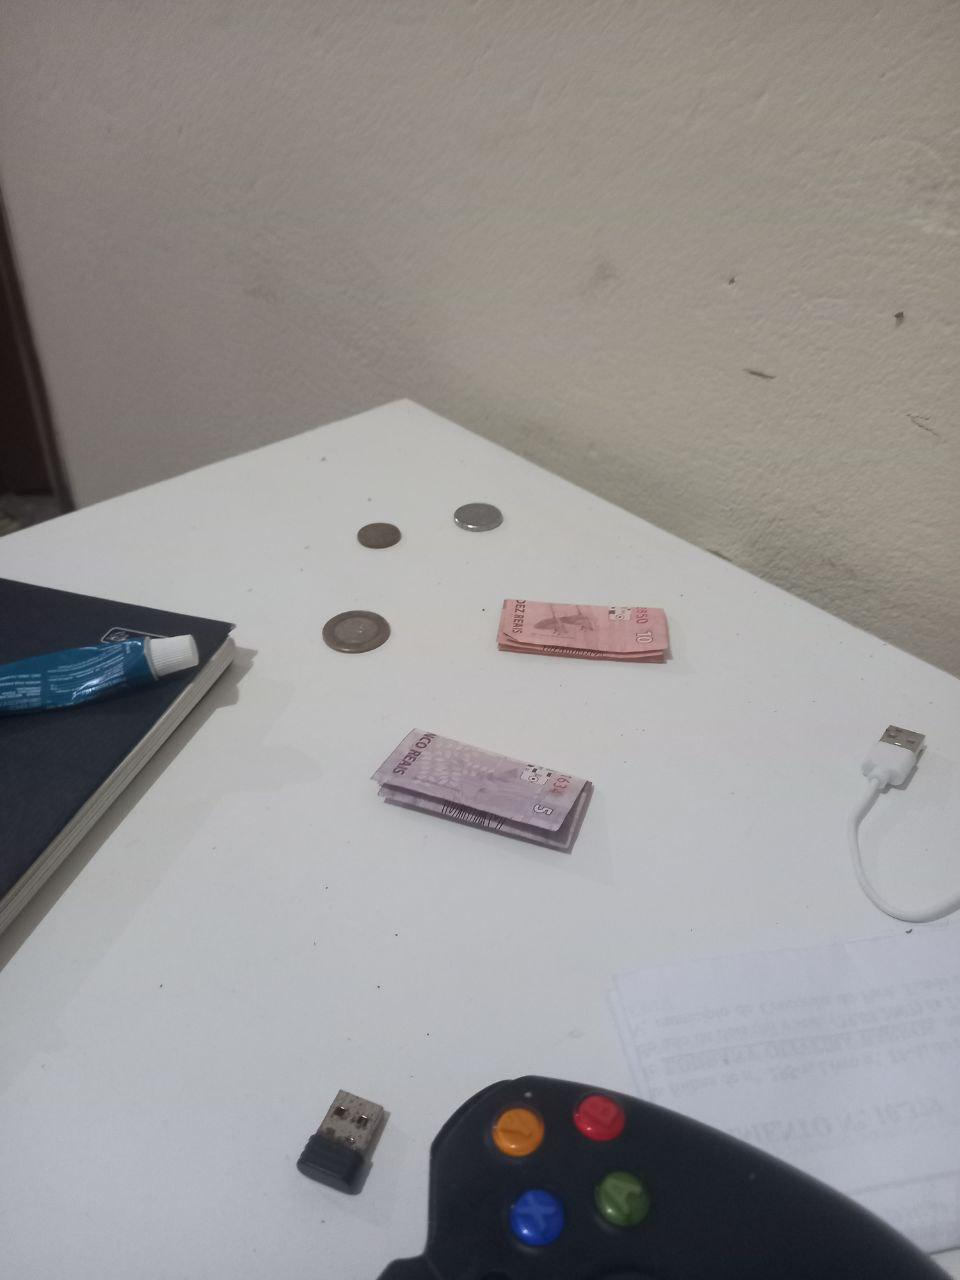1 real: (322, 610, 395, 655)
10 cent: (355, 522, 401, 552)
25 cent: (456, 488, 513, 548)
